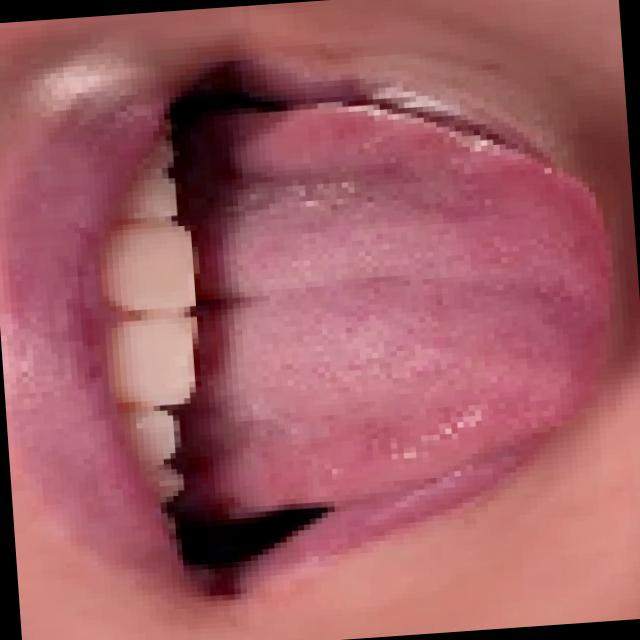No Cancer: (226, 93, 624, 510)
